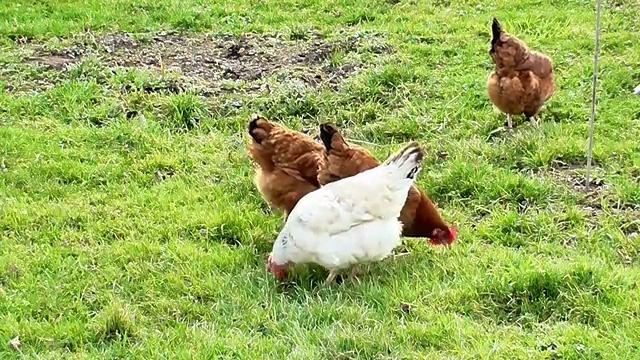Normal: (260, 142, 423, 281), (486, 22, 555, 135)
